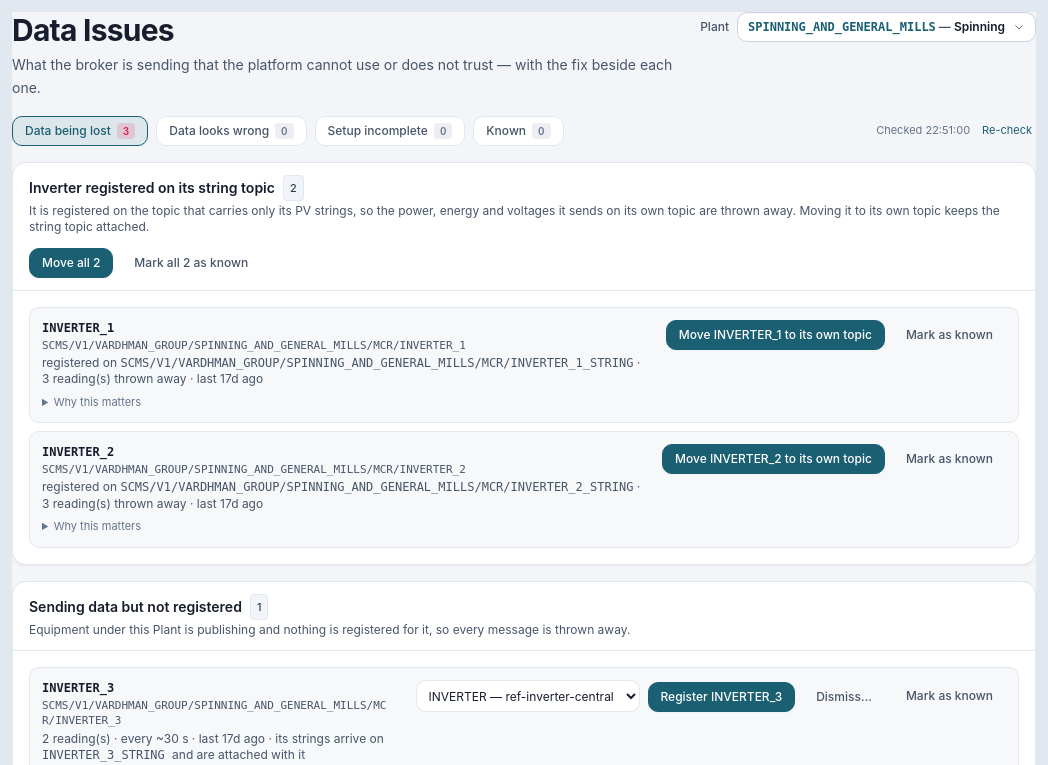
Test: Data Issues: an Inverter and its string topic › moves every Inverter in the card at once
The image size is (1048, 765).
Click the button "Move all 2": (71, 262) x1=29 y1=248 x2=113 y2=278
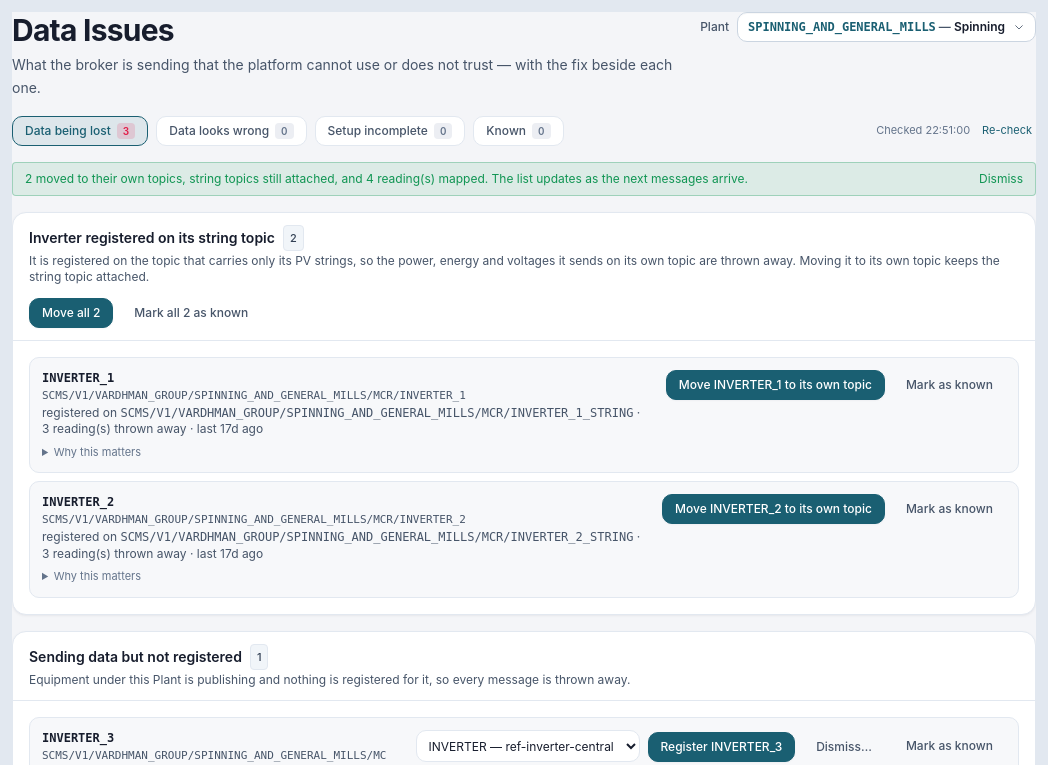
Expected: the message shows "2 moved to their own topics, string topics still attached, and 4 reading(s) mapped.", x1=25 y1=170 x2=488 y2=186
